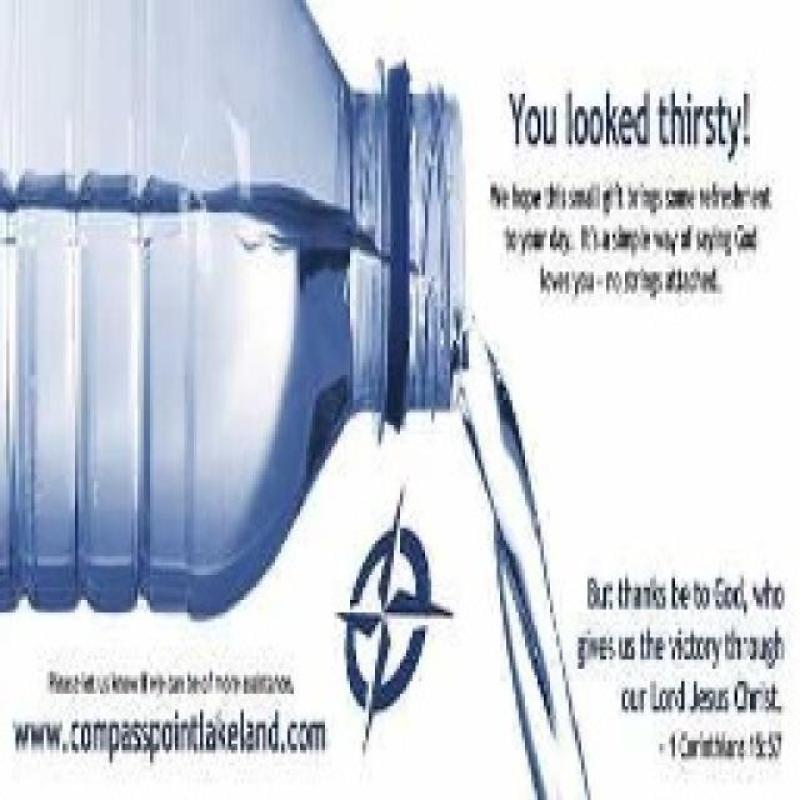botella: (0, 0, 462, 622)
